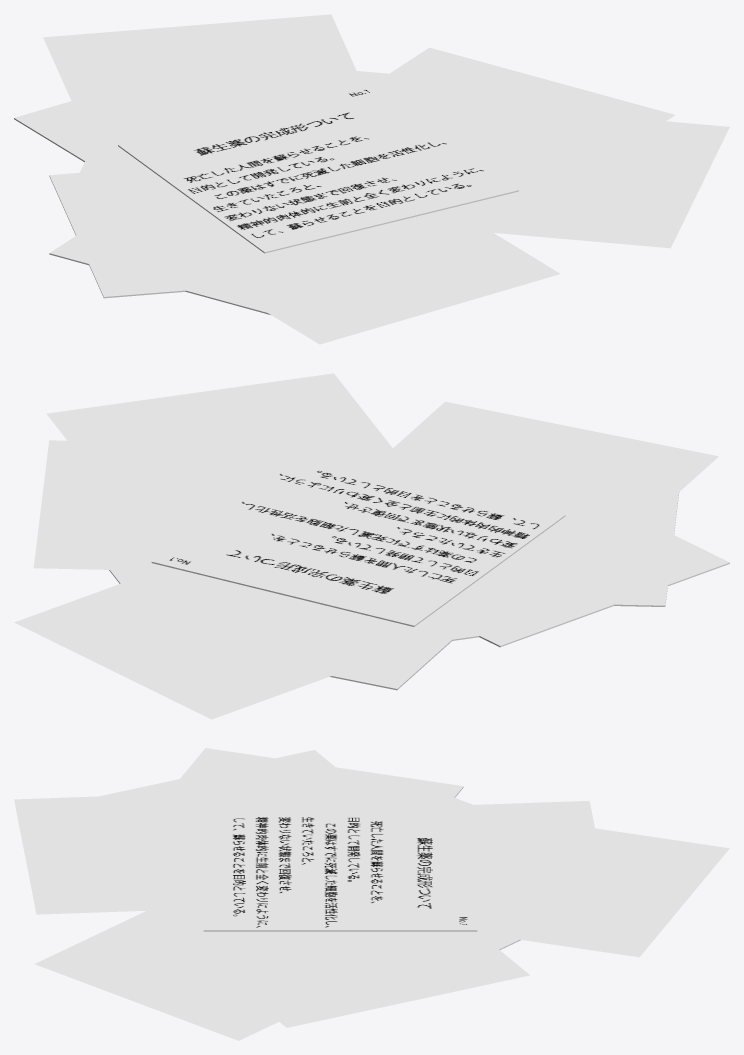
The model's file is Paper scattering.fbx.
The picture shows the model from 3 angles, top to bottom: view 1: azimuth 30°, elevation 25°; view 2: azimuth 150°, elevation 25°; view 3: azimuth 270°, elevation 25°; orthographic projection. The views are drawn at different scales.
Parts seen in each view (by area): view 1: Paper.002; view 2: Paper.002; view 3: Paper.002.
Part boxes in pixels (x1,y1,x2,y2): Paper.002: (14,14,729,344); Paper.002: (14,373,729,719); Paper.002: (14,748,729,1040).
Size of the model in its own units: 0.5068 by 0.00587 by 0.5234.
